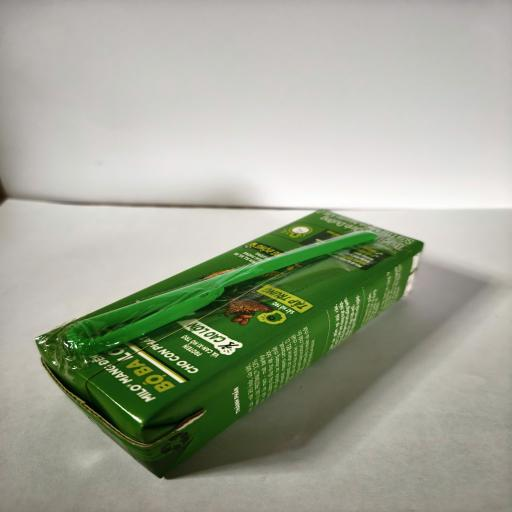milo: (35, 208, 424, 479)
